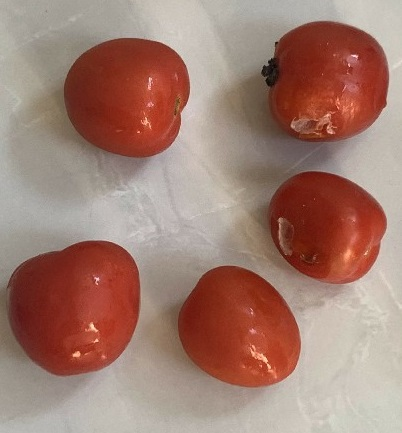NG: (255, 17, 393, 145), (263, 168, 390, 288)
OK: (1, 237, 147, 377), (174, 262, 306, 392), (57, 36, 192, 160)
